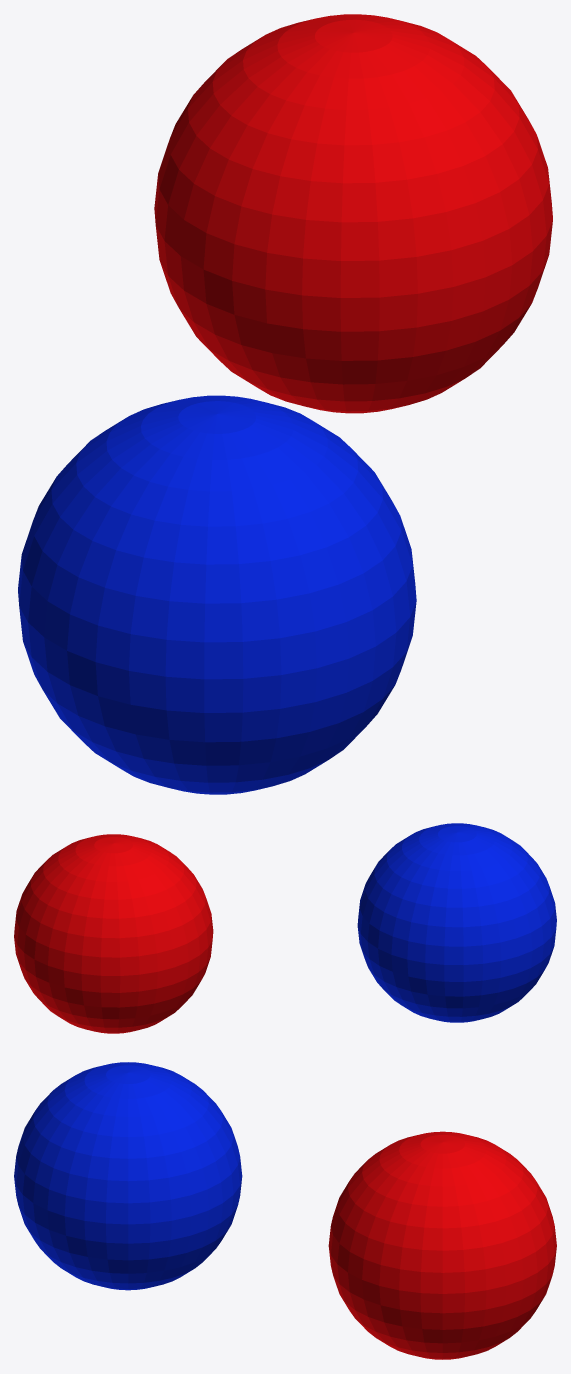
File: Spheres.gltf
The picture shows the model from 3 angles, top to bottom: view 1: azimuth 30°, elevation 25°; view 2: azimuth 150°, elevation 25°; view 3: azimuth 270°, elevation 25°; orthographic projection. The views are drawn at different scales.
Visible parts, largest first — view 1: Sphere, Sphere.001; view 2: Sphere.001, Sphere; view 3: Sphere, Sphere.001.
Part boxes in pixels (x1,y1,x2,y2): Sphere: (154,14,552,413); Sphere.001: (18,395,416,794); Sphere.001: (357,823,556,1022); Sphere: (14,834,213,1033); Sphere: (328,1131,556,1359); Sphere.001: (14,1062,242,1290).
Size of the model in its own units: 4.38 by 2.44 by 4.76.
